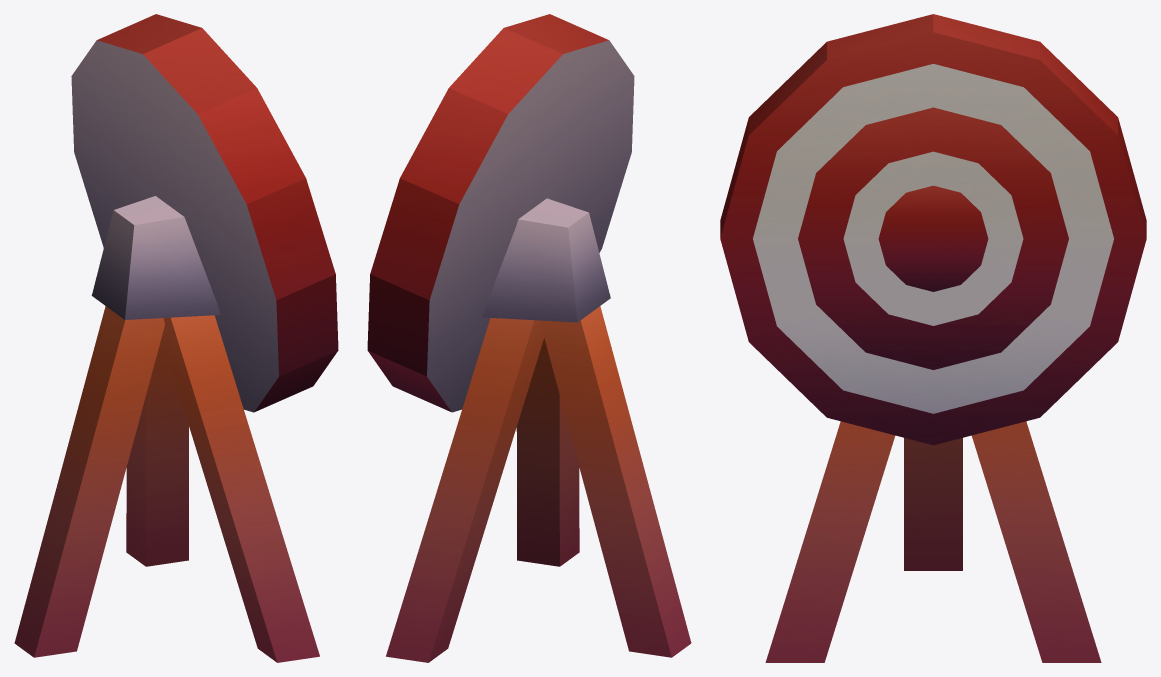
File: Target.fbx
The picture shows the model from 3 angles, left to right: view 1: azimuth 30°, elevation 25°; view 2: azimuth 150°, elevation 25°; view 3: azimuth 270°, elevation 25°; orthographic projection. The views are drawn at different scales.
Visible parts, largest first — view 1: Training Target; view 2: Training Target; view 3: Training Target.
Part boxes in pixels (x1,y1,x2,y2): Training Target: [14, 14, 338, 662]; Training Target: [367, 14, 691, 662]; Training Target: [720, 14, 1146, 662].
Size of the model in its own units: 63.74 by 145 by 91.97.
